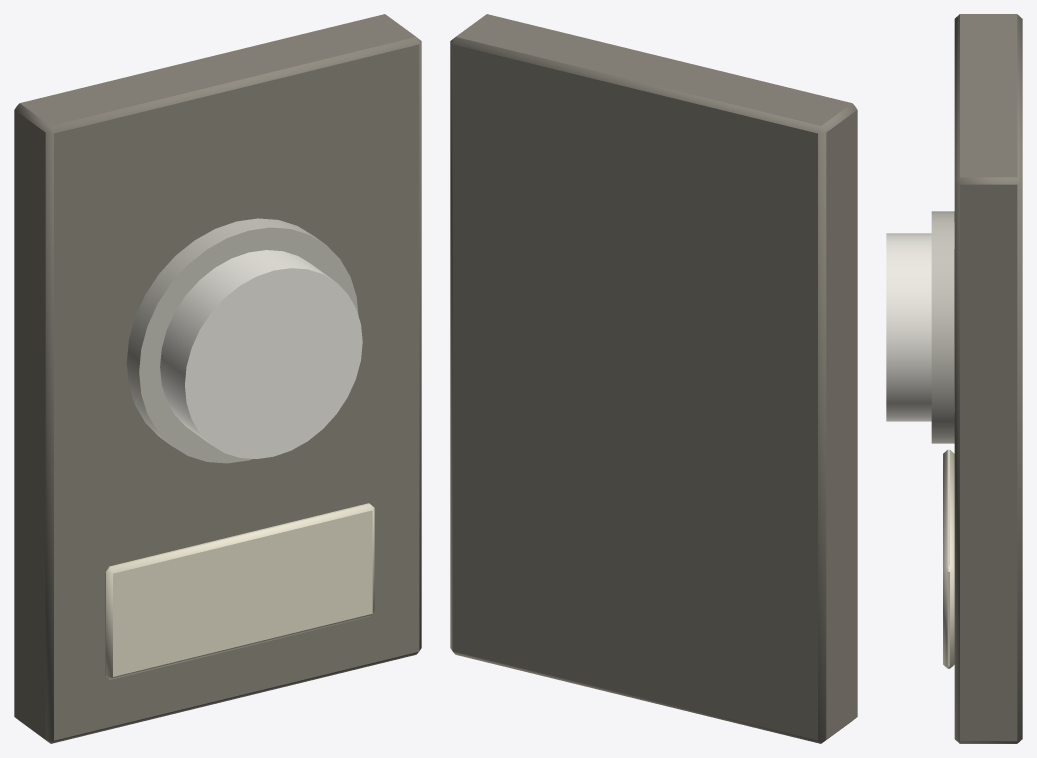
File: ChuongDien_Nut.glb
3 views of the same model, side by side, from view 1: azimuth 30°, elevation 25°; view 2: azimuth 150°, elevation 25°; view 3: azimuth 270°, elevation 25° (orthographic). The views are drawn at different scales.
Parts seen in each view (by area): view 1: ChuongDien_Nut; view 2: ChuongDien_Nut; view 3: ChuongDien_Nut.
Part boxes in pixels (x1,y1,x2,y2): ChuongDien_Nut: [14, 14, 421, 743]; ChuongDien_Nut: [450, 14, 857, 743]; ChuongDien_Nut: [886, 14, 1022, 743].
Bounding box in the file's own units: 0.07 × 0.11 × 0.024.
